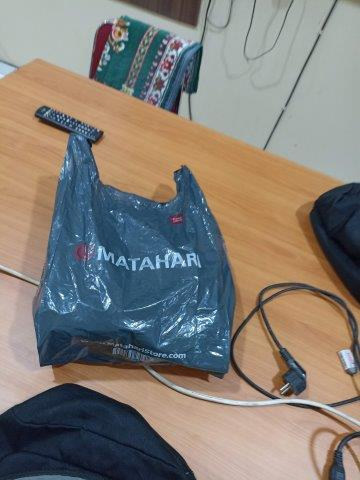plastik: (34, 132, 237, 376)
